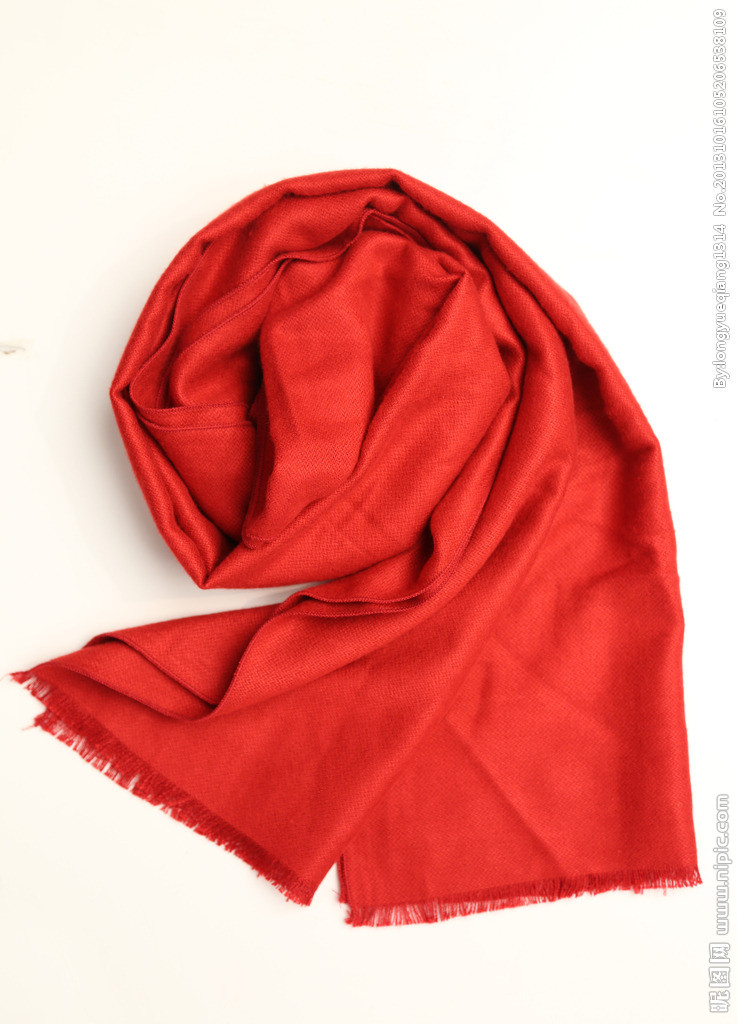flexible: (15, 164, 704, 917)
